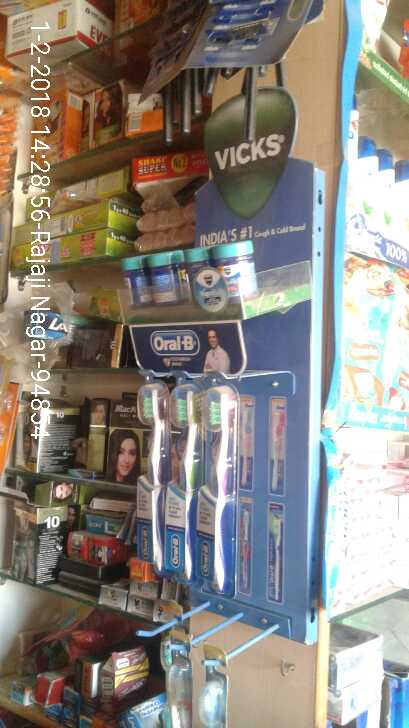pharmacy: (107, 239, 268, 301), (202, 381, 245, 591), (126, 383, 168, 583), (169, 380, 200, 581)
